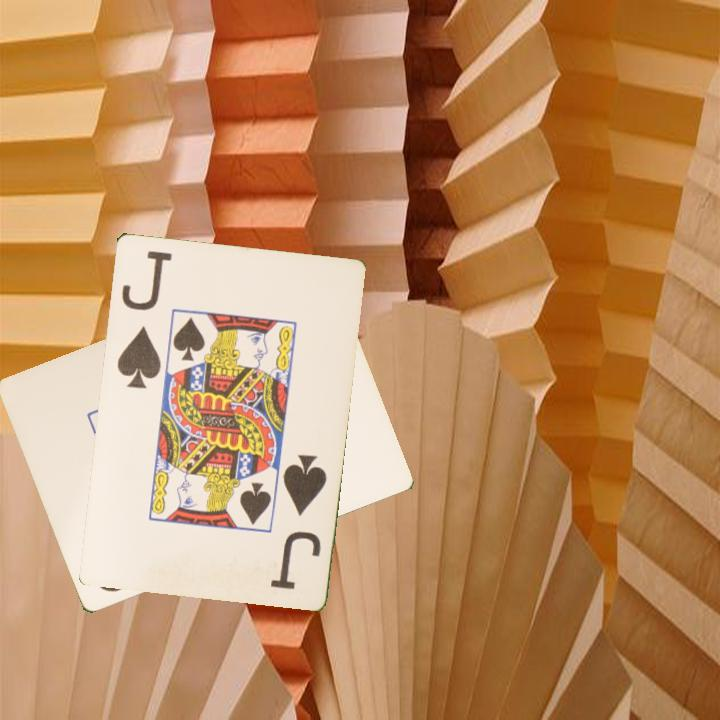Js: (267, 450, 330, 592), (113, 246, 174, 391)
